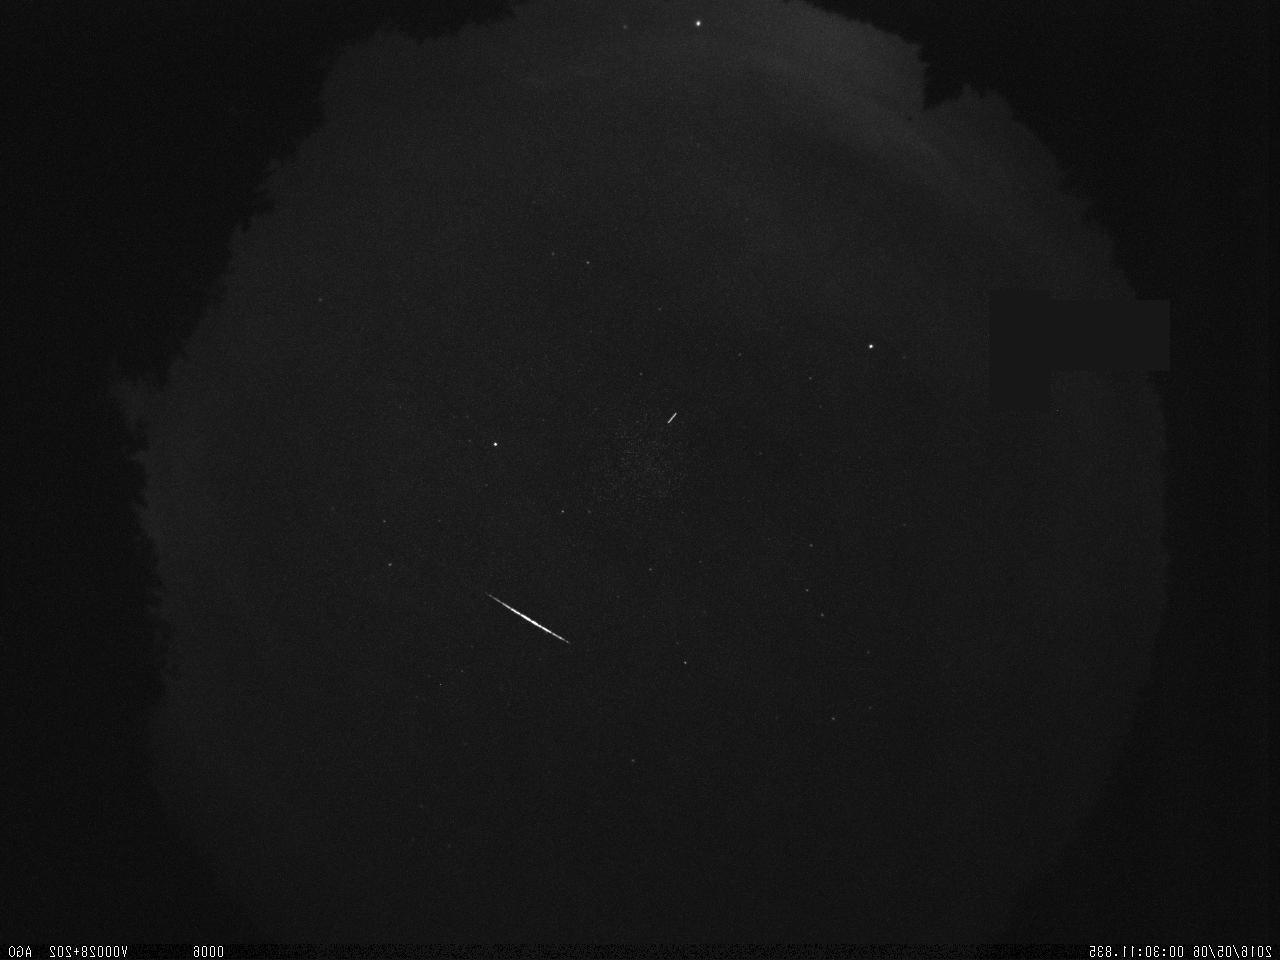meteor: (476, 573, 582, 651)
